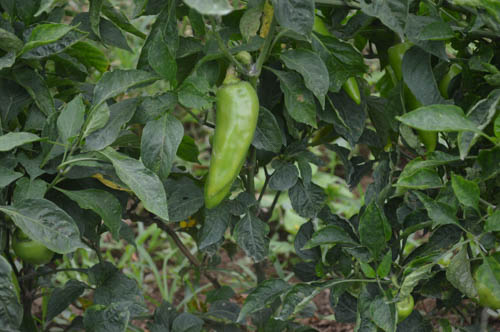ChiliPepper: (204, 82, 261, 208), (388, 44, 439, 155)
